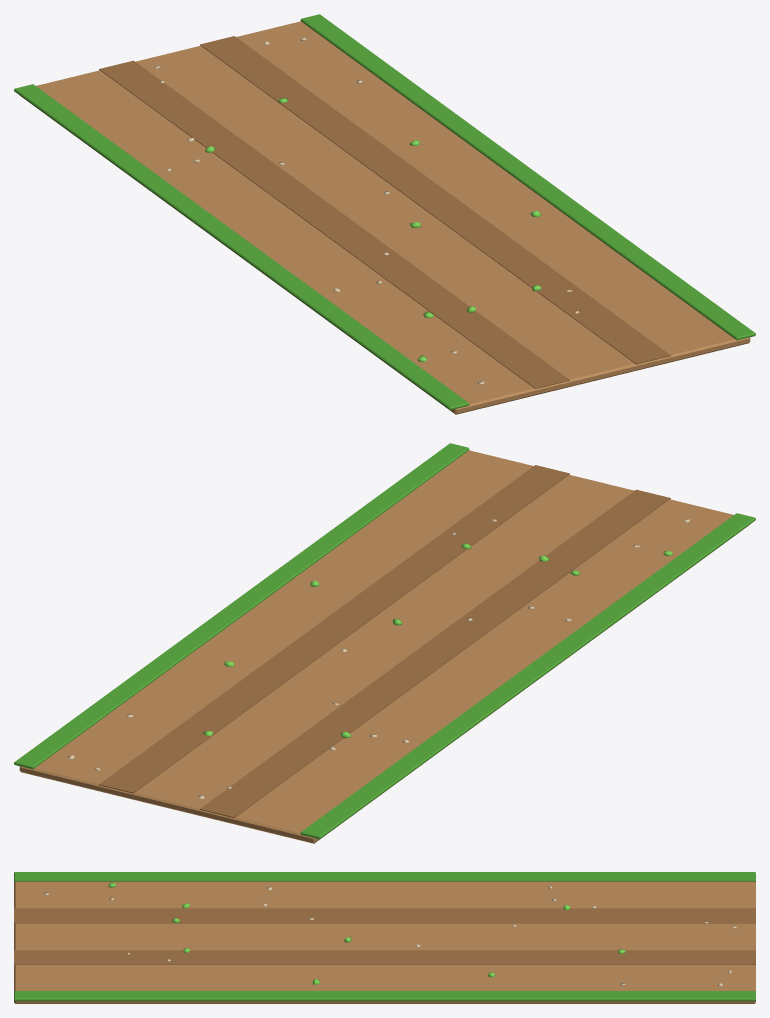
File: hd_rd_dirt.gltf
3 views of the same model, one above another, from view 1: azimuth 30°, elevation 25°; view 2: azimuth 150°, elevation 25°; view 3: azimuth 270°, elevation 25° (orthographic). The views are drawn at different scales.
Parts seen in each view (by area): view 1: path, rut1, rut0, verge0, verge1; view 2: path, rut0, rut1, verge0, verge1; view 3: path, rut0, rut1, verge1, verge0.
Boxes of the visible parts, left/top/right/bottom form: path: left=21, top=21, right=750, bottom=414; rut1: left=200, top=36, right=670, bottom=364; rut0: left=99, top=60, right=569, bottom=388; verge0: left=14, top=84, right=469, bottom=410; verge1: left=300, top=14, right=755, bottom=340; path: left=19, top=450, right=748, bottom=843; rut0: left=200, top=489, right=670, bottom=817; rut1: left=99, top=465, right=569, bottom=793; verge0: left=300, top=513, right=755, bottom=839; verge1: left=14, top=443, right=469, bottom=769; path: left=14, top=881, right=755, bottom=1003; rut0: left=14, top=908, right=755, bottom=923; rut1: left=14, top=950, right=755, bottom=965; verge1: left=14, top=991, right=755, bottom=1001; verge0: left=14, top=872, right=755, bottom=881.
Size of the model in its own units: 9.74 by 0.3667 by 24.
